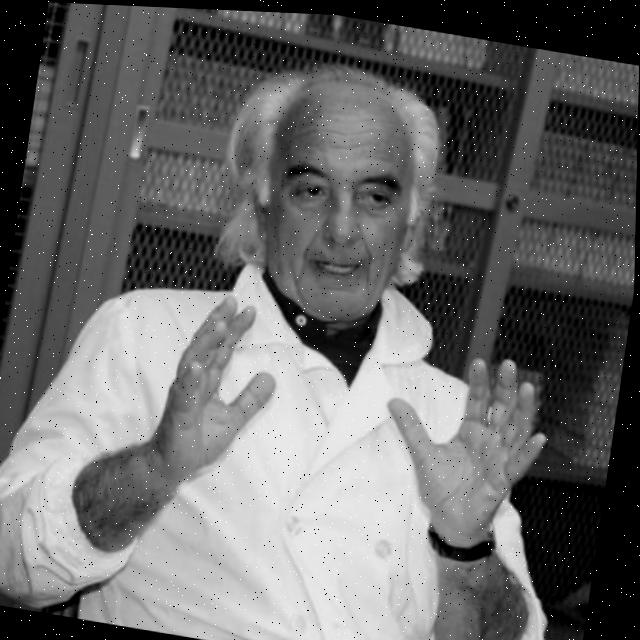face: (222, 57, 457, 333)
